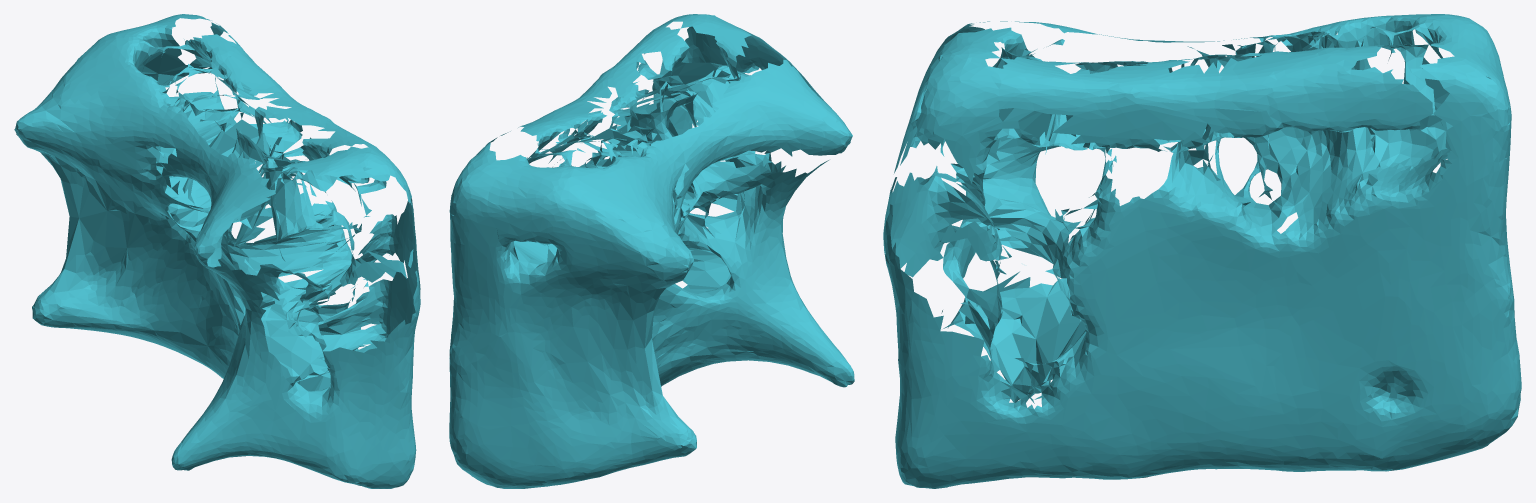
The picture shows the model from 3 angles, left to right: view 1: azimuth 30°, elevation 25°; view 2: azimuth 150°, elevation 25°; view 3: azimuth 270°, elevation 25°; orthographic projection. The views are drawn at different scales.
Parts seen in each view (by area): view 1: Renderer Node; view 2: Renderer Node; view 3: Renderer Node.
Part boxes in pixels (x1,y1,x2,y2): Renderer Node: [14, 14, 420, 488]; Renderer Node: [449, 14, 854, 488]; Renderer Node: [883, 14, 1521, 488].
Size of the model in its own units: 0.2985 by 0.4414 by 0.5945.
Materials: 1 (1 with a texture image).
